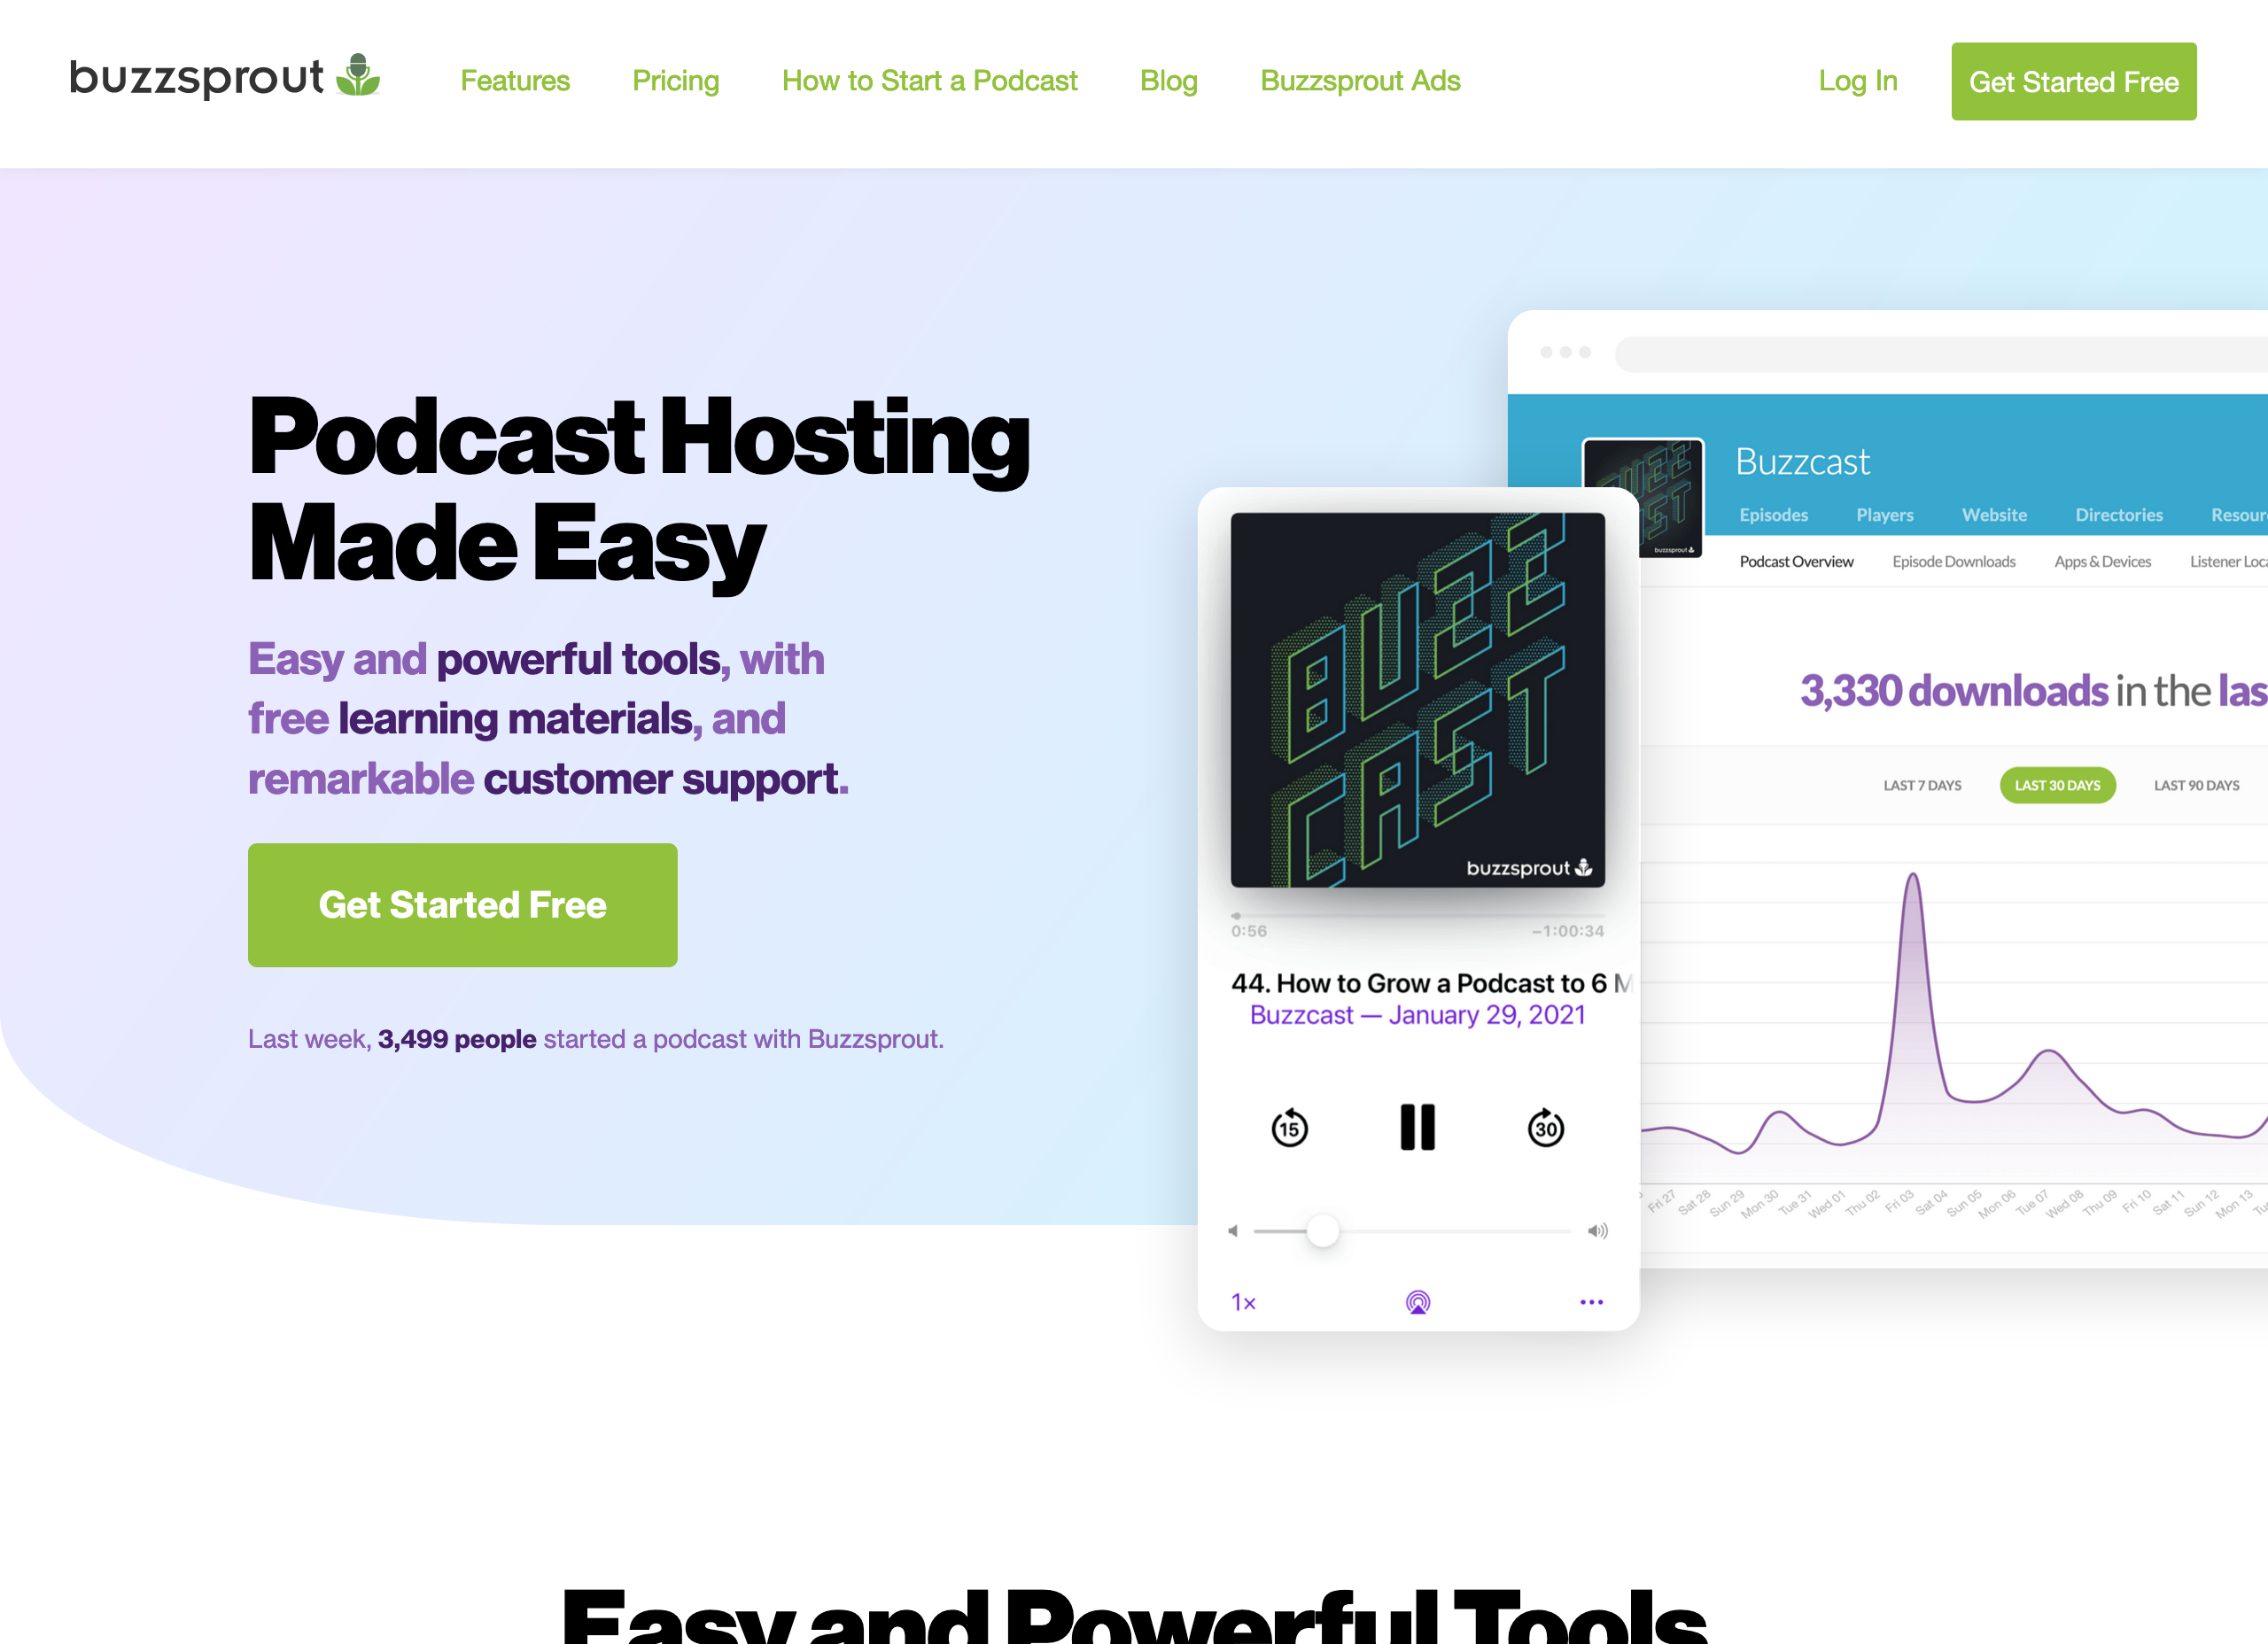Login: (1808, 44, 1911, 109)
